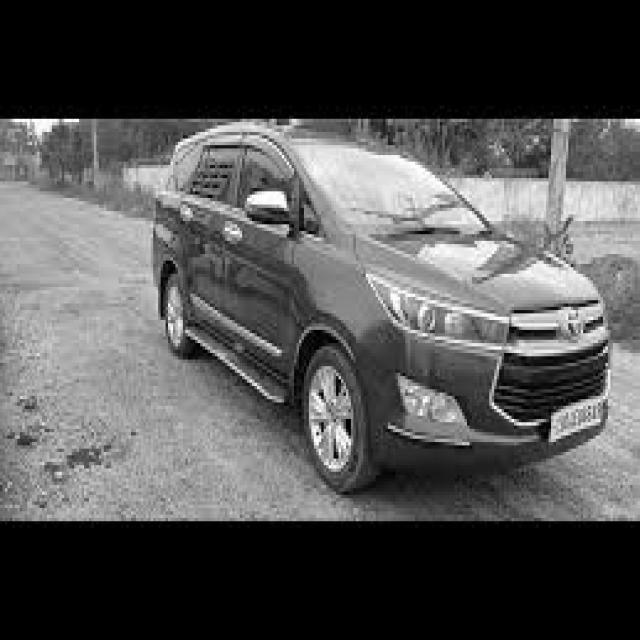Car: (154, 122, 611, 491)
